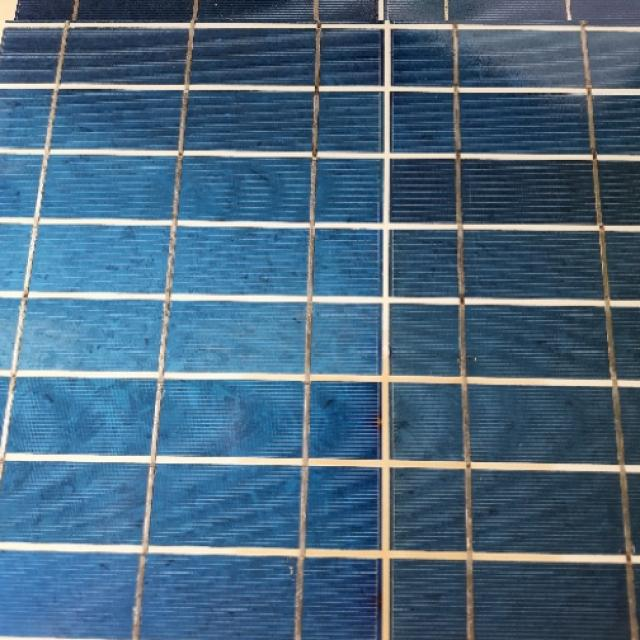Clean: (0, 20, 640, 640)
